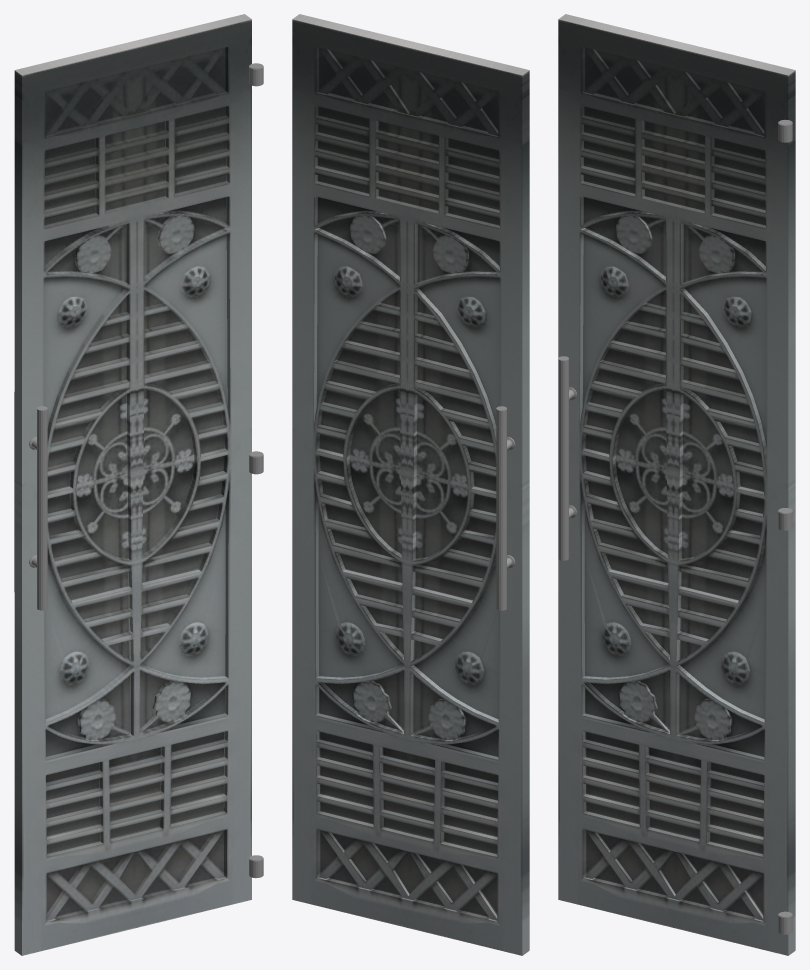
Rendered from EntranceDoorRight1 1.fbx.
3 views of the same model, side by side, from view 1: azimuth 30°, elevation 25°; view 2: azimuth 150°, elevation 25°; view 3: azimuth 330°, elevation 25° (orthographic).
Parts seen in each view (by area): view 1: EntranceDoorRight1; view 2: EntranceDoorRight1; view 3: EntranceDoorRight1.
Part boxes in pixels (box(x1,y1,x2,y2)): EntranceDoorRight1: box(14, 14, 263, 955); EntranceDoorRight1: box(292, 14, 529, 955); EntranceDoorRight1: box(558, 14, 795, 955).
Bounding box in the file's own units: 95.35 × 338 × 19.53.
2 materials, 1 textured.
